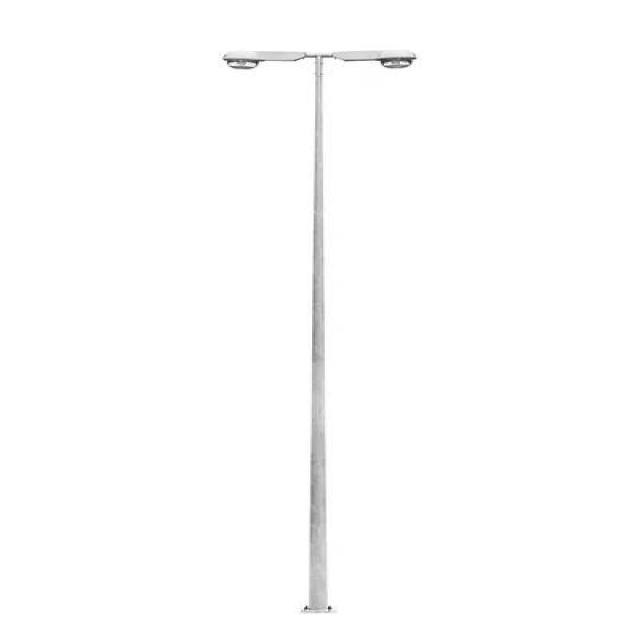Pole: (222, 50, 418, 614)
